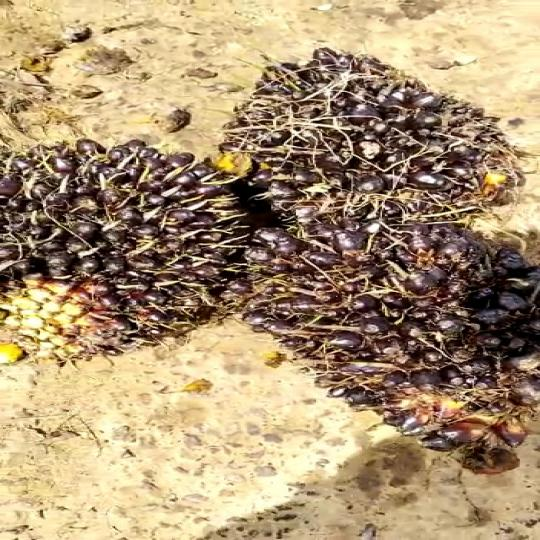mentah: (228, 210, 540, 483), (0, 103, 270, 377), (193, 28, 526, 235)
